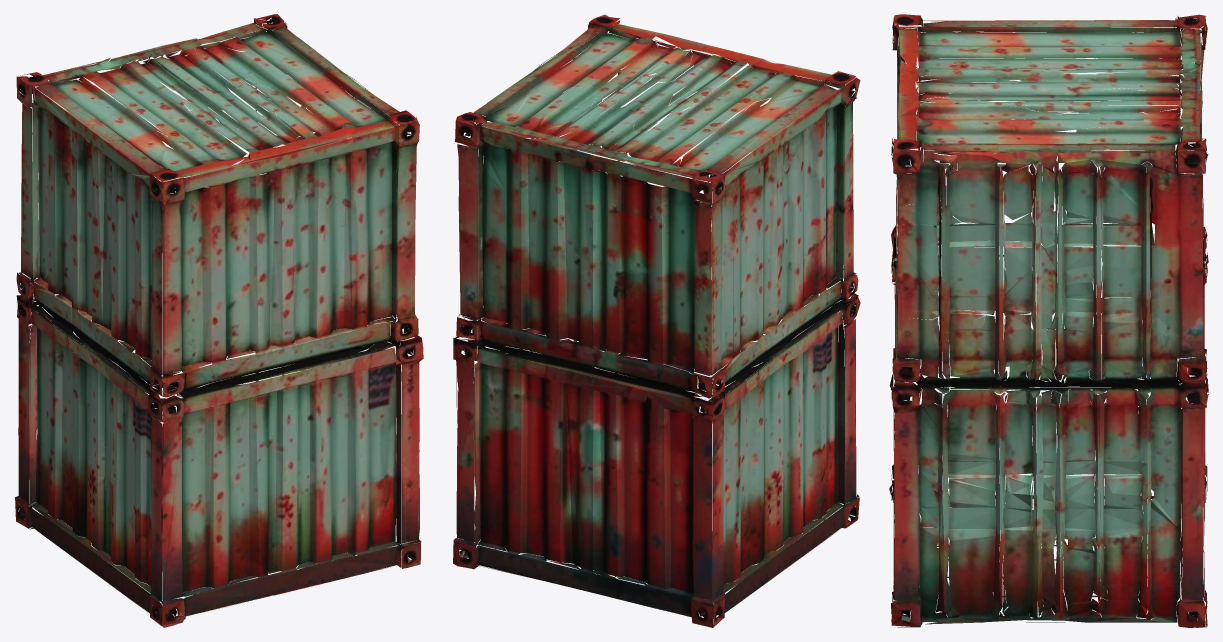
Rendered from shipping-crates.glb.
3 views of the same model, side by side, from view 1: azimuth 30°, elevation 25°; view 2: azimuth 150°, elevation 25°; view 3: azimuth 270°, elevation 25° (orthographic). The views are drawn at different scales.
Parts seen in each view (by area): view 1: prop; view 2: prop; view 3: prop.
Part boxes in pixels (left/top/right/bottom): prop: left=15, top=14, right=423, bottom=627; prop: left=453, top=14, right=860, bottom=627; prop: left=889, top=14, right=1208, bottom=627.
Size of the model in its own units: 0.92 by 1.48 by 0.8867.
1 material, 1 textured.
